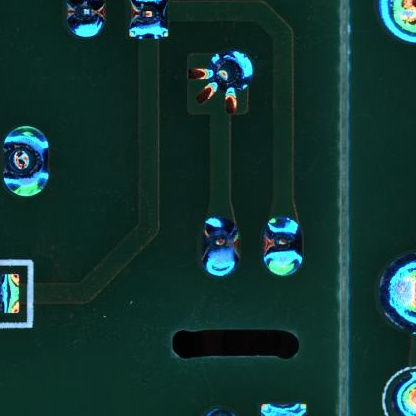spot: (192, 49, 253, 113), (3, 125, 51, 198), (263, 216, 305, 279), (201, 215, 241, 278)
